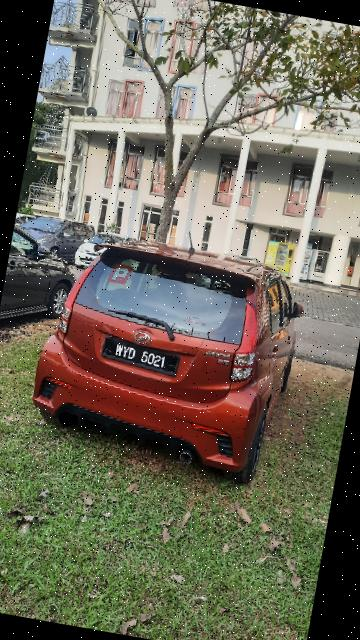License_Plate: (95, 336, 185, 383)
car: (21, 226, 317, 494)
